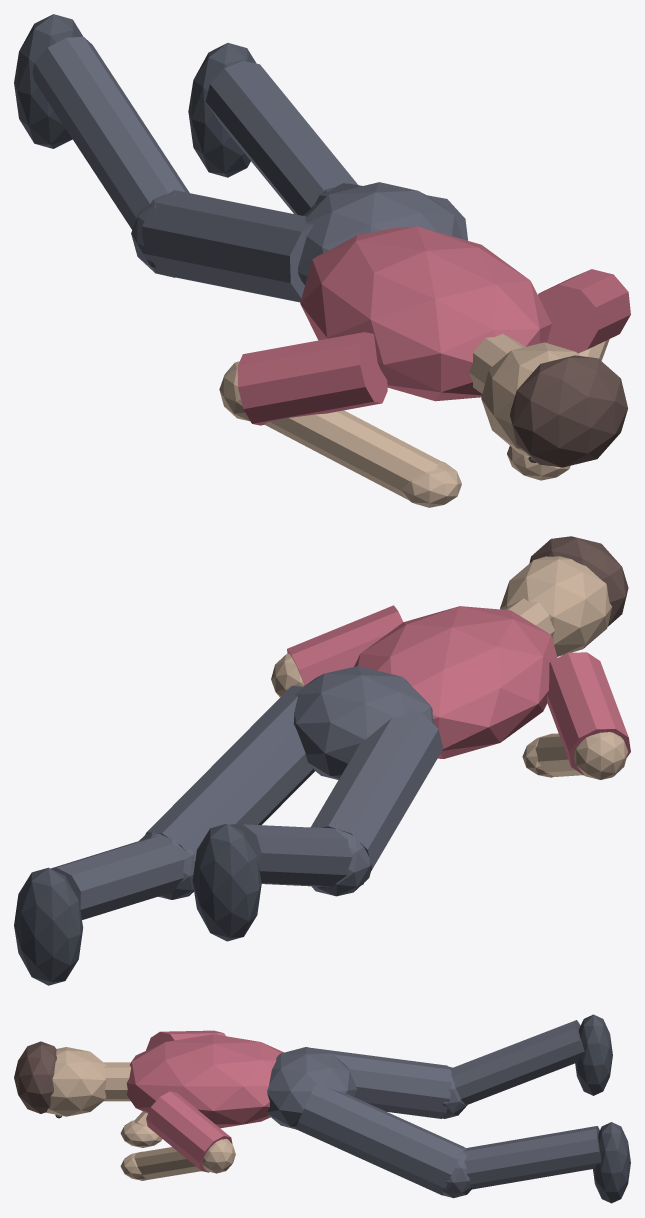
3 views of the same model, one above another, from view 1: azimuth 30°, elevation 25°; view 2: azimuth 150°, elevation 25°; view 3: azimuth 270°, elevation 25° (orthographic). The views are drawn at different scales.
Visible parts, largest first — view 1: world; view 2: world; view 3: world.
Boxes of the visible parts, box(x1,y1,x2,y2) form: world: box(14, 14, 630, 507); world: box(14, 536, 630, 985); world: box(14, 1014, 630, 1203).
Bounding box in the file's own units: 0.93 × 0.4905 × 2.06.
